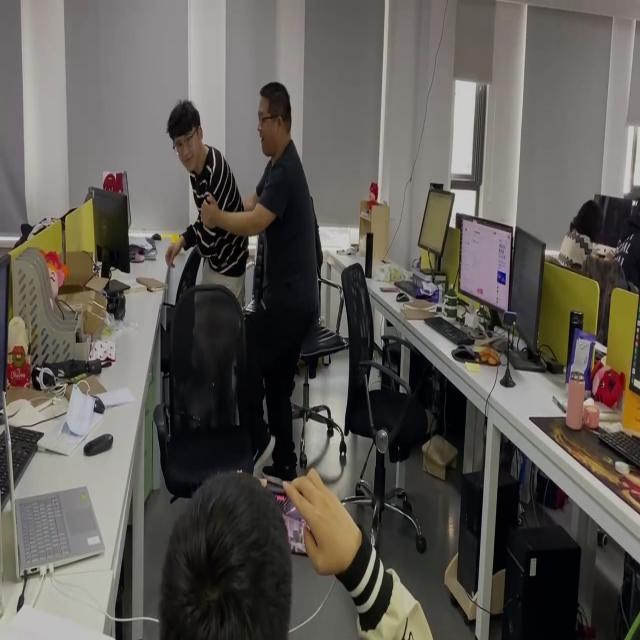fight: (166, 77, 322, 483)
